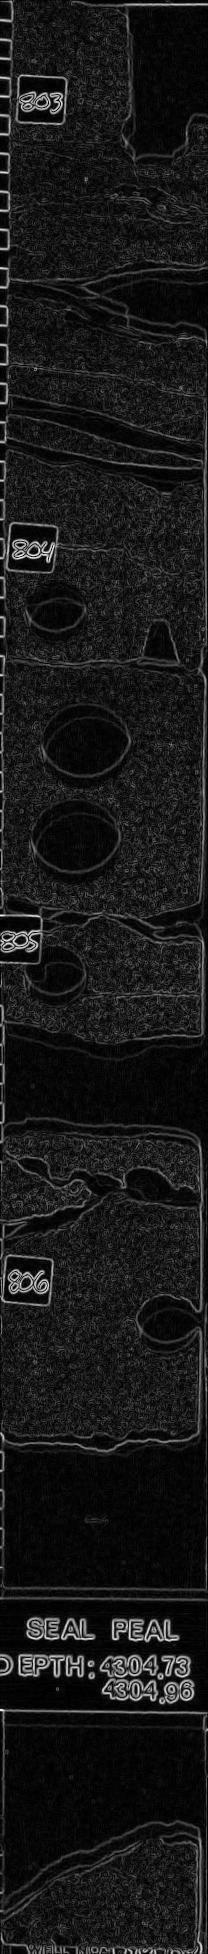hplug: (125, 1280, 199, 1360), (12, 942, 95, 1012), (21, 574, 97, 644), (115, 110, 197, 169)
scal: (35, 697, 137, 793), (25, 800, 127, 890)
vplug: (110, 488, 191, 668), (64, 1196, 111, 1368)
